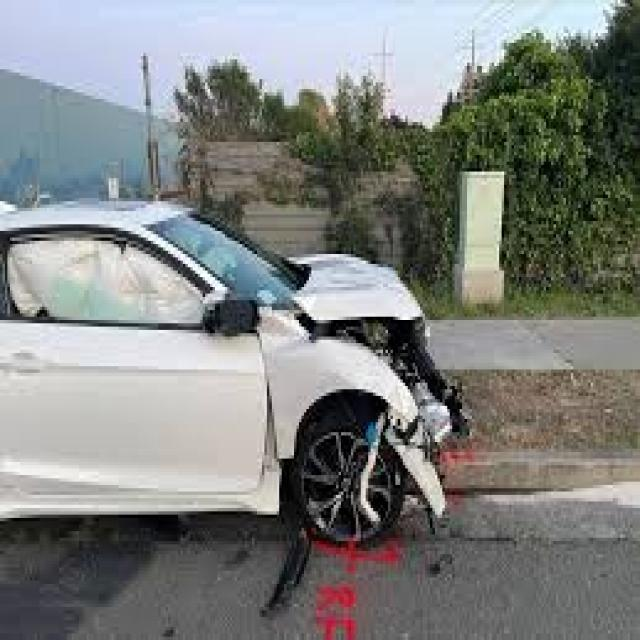accident: (34, 179, 502, 560)
